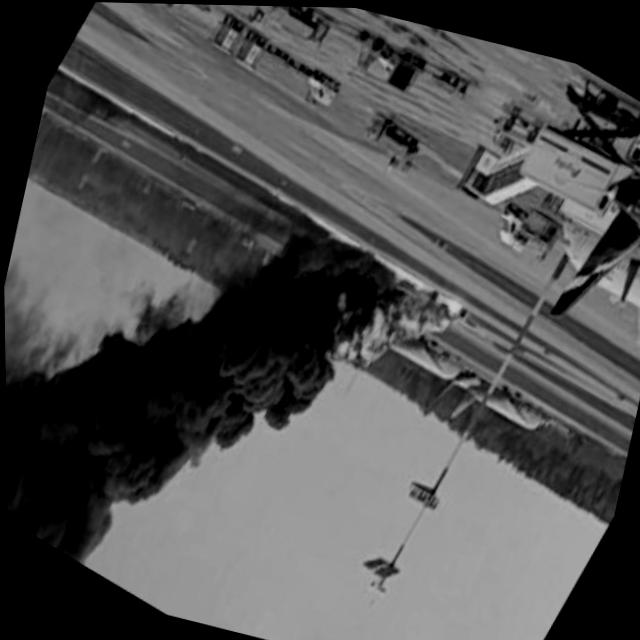aeroplane: (499, 77, 640, 384), (440, 359, 560, 466)
